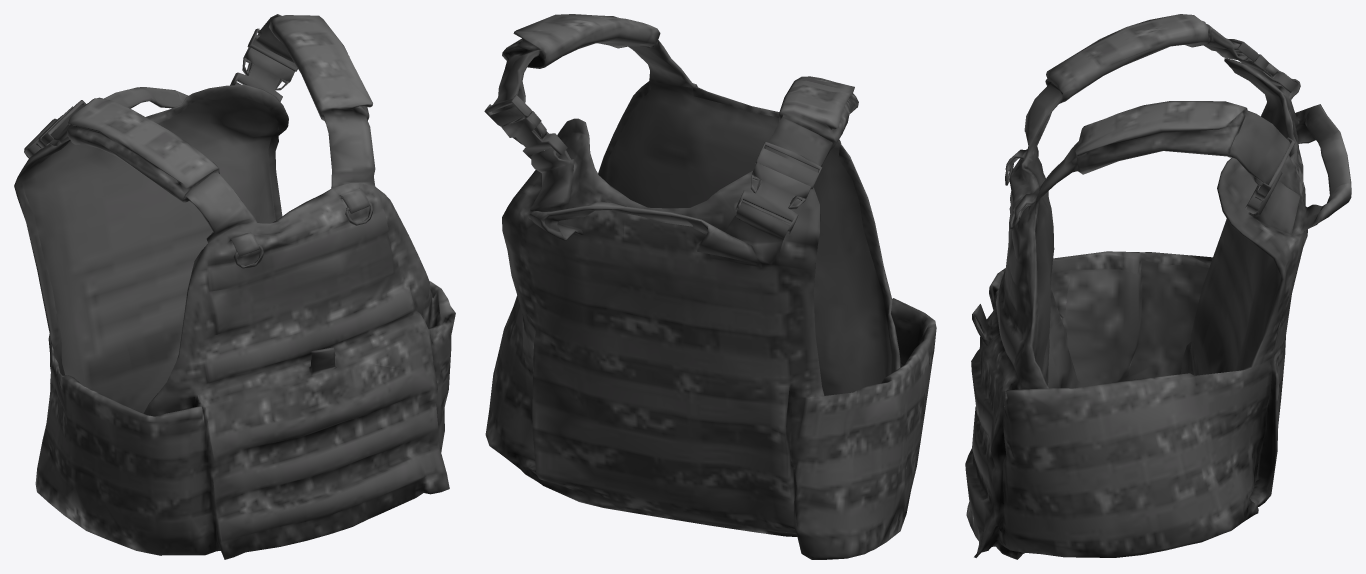
File: item_vest.glb
3 views of the same model, side by side, from view 1: azimuth 30°, elevation 25°; view 2: azimuth 150°, elevation 25°; view 3: azimuth 270°, elevation 25° (orthographic). The views are drawn at different scales.
Parts seen in each view (by area): view 1: prefab; view 2: prefab; view 3: prefab.
Part boxes in pixels (x1,y1,x2,y2): prefab: (14, 14, 455, 559); prefab: (484, 14, 936, 559); prefab: (965, 14, 1351, 559).
Bounding box in the file's own units: 0.5469 × 0.62 × 0.4799.
Materials: 1 (1 with a texture image).
